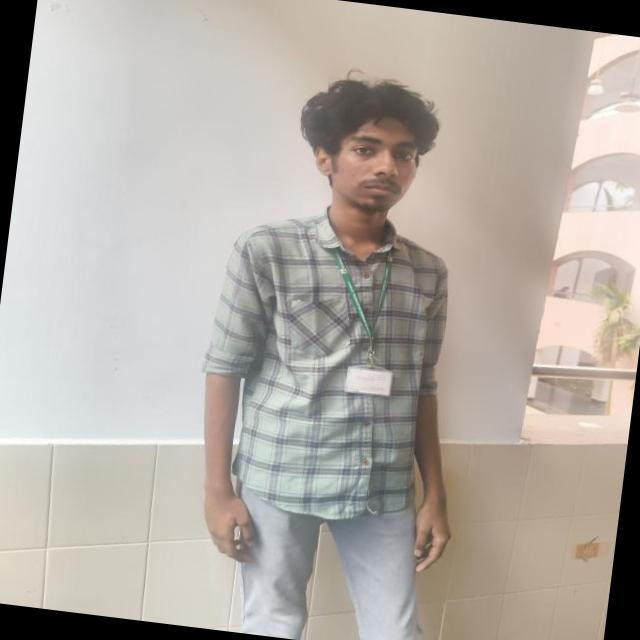id_card: (312, 242, 412, 401)
